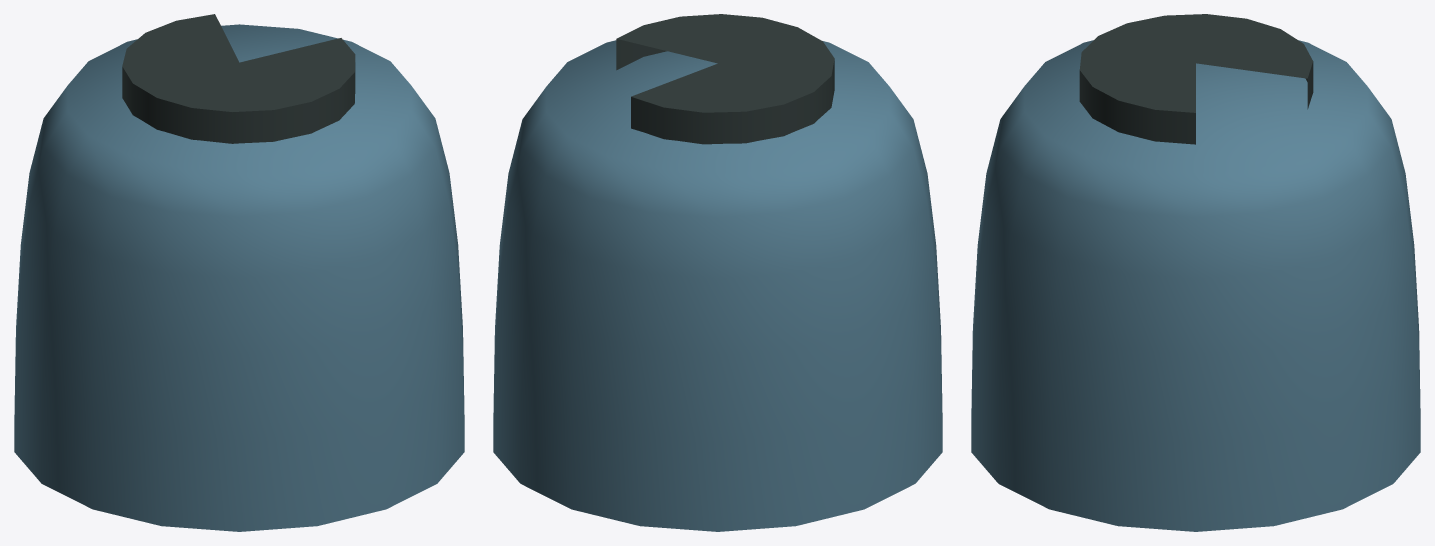
The model's file is ether_robe.obj.
3 renders of one model, left to right at view 1: azimuth 30°, elevation 25°; view 2: azimuth 150°, elevation 25°; view 3: azimuth 270°, elevation 25°, orthographic.
Parts seen in each view (by area): view 1: ether_robe; view 2: ether_robe; view 3: ether_robe.
Boxes of the visible parts, <box> form: ether_robe: <box>14,14,464,531</box>; ether_robe: <box>493,14,942,531</box>; ether_robe: <box>971,14,1420,531</box>.
Bounding box in the file's own units: 1.4 × 1.26 × 1.38.
